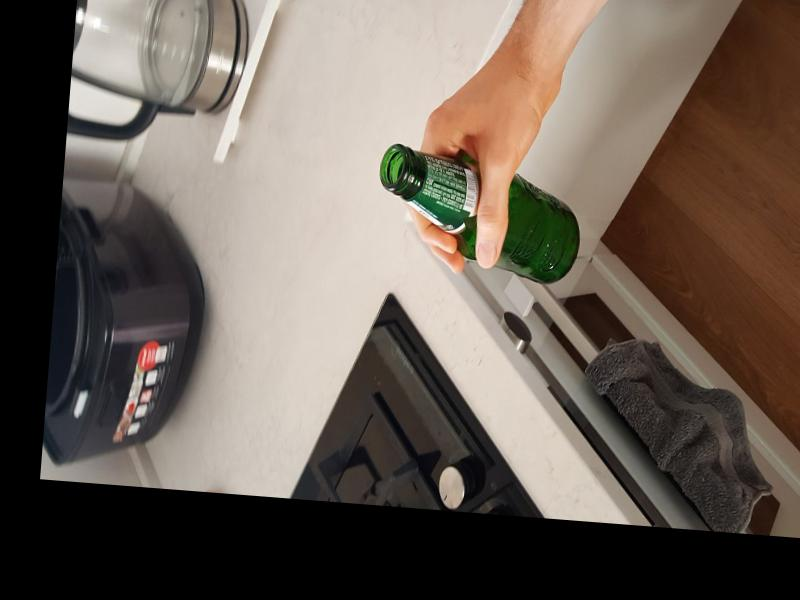Beer: (373, 142, 587, 286)
